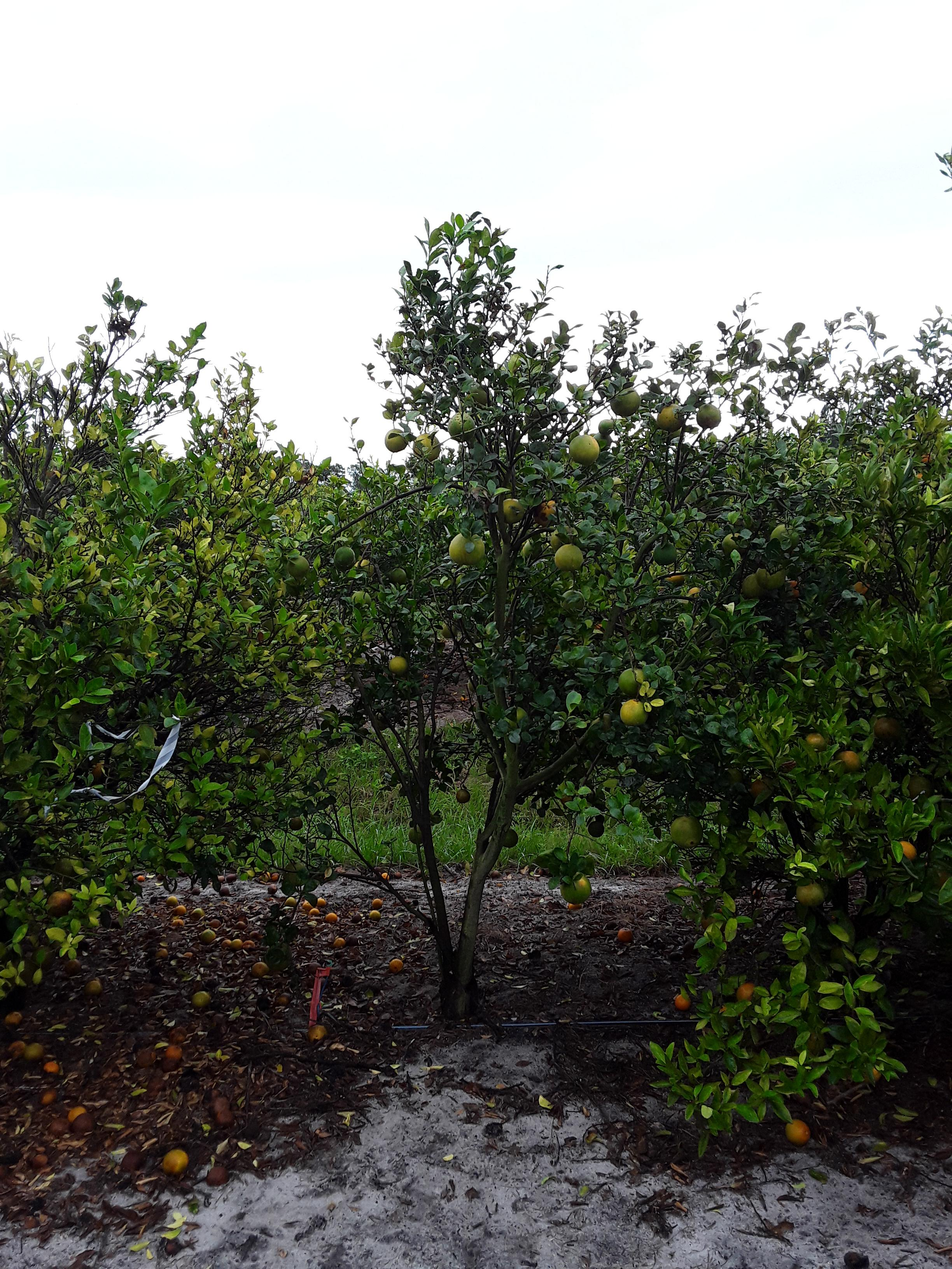fruit_on_ground: (568, 432, 600, 471), (670, 811, 701, 848), (769, 521, 802, 555), (799, 878, 829, 914), (720, 530, 753, 561), (739, 565, 769, 599), (285, 551, 312, 588), (877, 712, 906, 746), (453, 531, 481, 566), (617, 385, 644, 420), (467, 381, 497, 412), (537, 495, 564, 529), (557, 588, 588, 617), (554, 544, 581, 577), (565, 877, 591, 911), (648, 538, 677, 568), (88, 757, 117, 786), (900, 773, 931, 800), (620, 665, 645, 698), (450, 411, 476, 441), (623, 698, 649, 728), (780, 575, 807, 603), (802, 731, 827, 761), (660, 406, 684, 437), (515, 536, 543, 562), (497, 826, 526, 851), (499, 496, 522, 527), (702, 403, 724, 435), (384, 431, 407, 461), (416, 432, 438, 462), (749, 778, 772, 806), (48, 889, 71, 916), (737, 985, 760, 1012), (583, 815, 606, 841), (335, 545, 357, 572), (841, 747, 863, 772), (861, 1063, 884, 1086), (546, 526, 567, 551), (909, 469, 932, 491), (354, 558, 376, 581), (386, 652, 407, 676), (351, 589, 373, 611), (913, 451, 937, 471), (689, 585, 709, 607), (897, 843, 916, 866), (388, 567, 409, 587), (406, 824, 426, 845), (286, 817, 307, 834), (665, 569, 683, 588), (453, 788, 473, 805), (852, 582, 868, 601)
fruit_on_tree: (209, 1091, 235, 1127), (68, 1110, 96, 1139), (163, 1145, 189, 1176), (789, 1116, 811, 1145), (206, 1167, 228, 1192), (164, 1038, 185, 1064), (22, 1041, 46, 1063), (62, 958, 84, 981), (84, 979, 105, 1003), (3, 1011, 24, 1033), (198, 926, 217, 949), (191, 991, 210, 1014), (250, 960, 271, 980), (9, 1040, 29, 1060), (136, 1049, 154, 1069), (310, 1024, 326, 1046), (566, 899, 586, 916), (677, 993, 693, 1014), (275, 989, 293, 1007), (43, 1085, 59, 1105), (223, 874, 241, 891), (45, 1057, 61, 1076), (367, 896, 385, 912), (154, 947, 170, 965), (181, 951, 199, 967), (170, 904, 189, 919), (620, 924, 635, 943), (239, 938, 259, 952), (188, 905, 204, 922), (170, 915, 187, 931), (208, 915, 224, 931), (332, 936, 348, 952), (229, 938, 243, 956), (389, 960, 403, 978), (219, 884, 234, 900), (324, 910, 340, 925), (165, 894, 180, 909), (282, 897, 298, 911), (303, 897, 317, 913), (306, 907, 322, 921), (133, 871, 149, 884), (266, 883, 280, 897), (315, 896, 329, 910), (377, 870, 391, 883), (368, 910, 382, 923), (190, 888, 205, 900), (220, 937, 232, 952), (268, 871, 281, 883), (215, 872, 227, 884)
